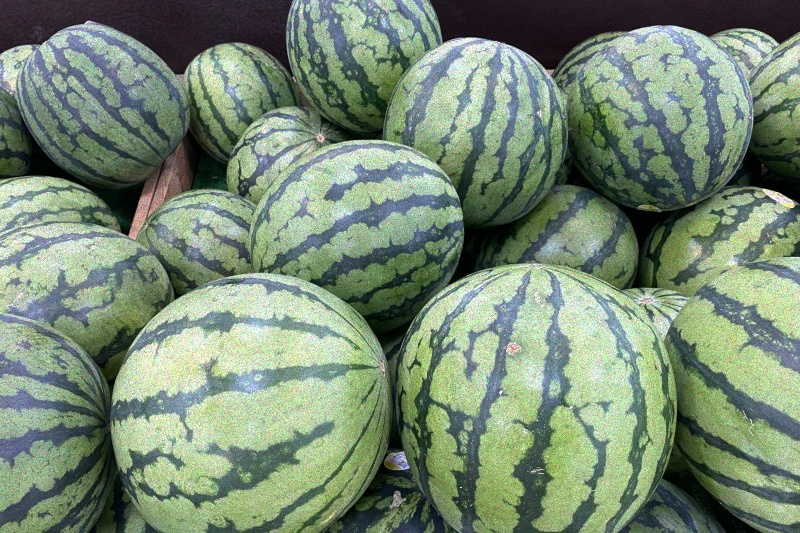watermelon: (398, 267, 677, 532), (112, 276, 394, 531), (240, 132, 467, 311), (574, 24, 758, 212), (392, 33, 564, 226), (18, 22, 189, 184), (1, 225, 180, 351)
